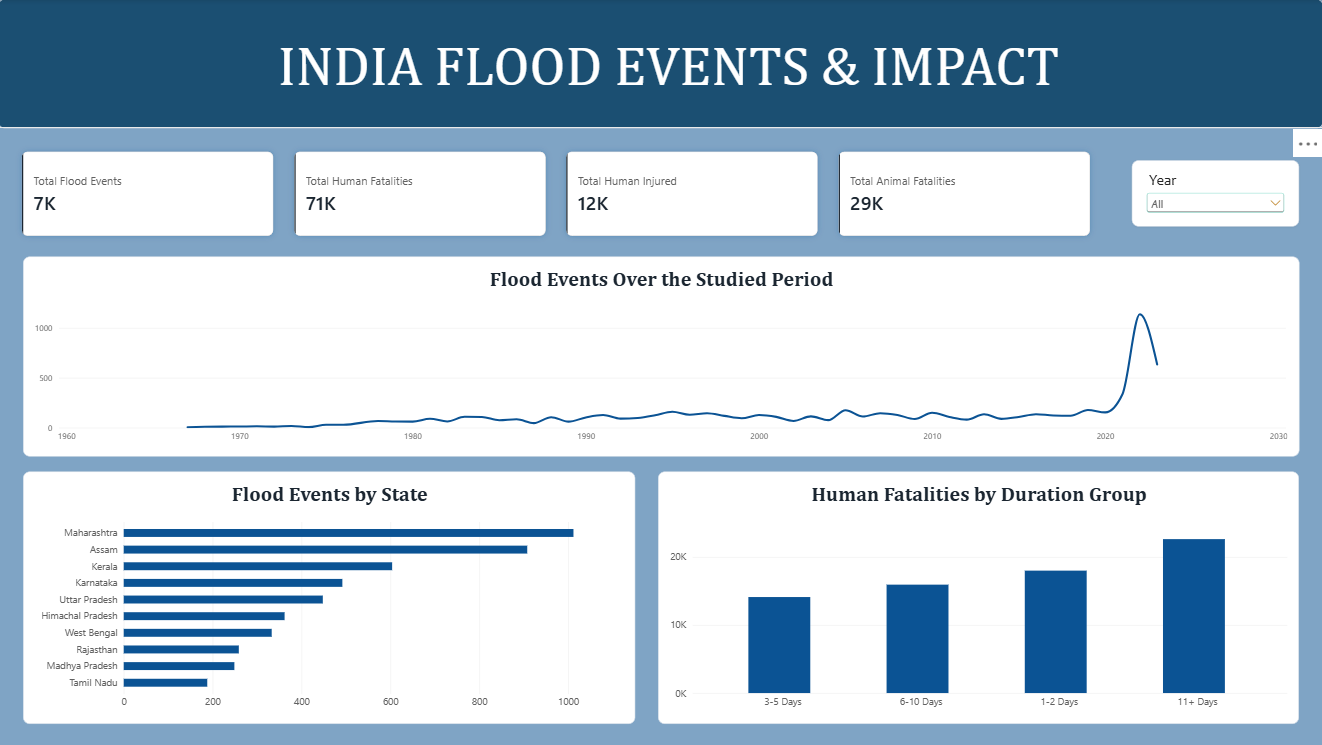

Layout of this report page (visuals, bound fields, positions):
{"tool":"powerbi","page":{"name":"Overview","canvas":[1920,1080],"ordinal":0},"visuals":[{"type":"cardVisual","fields":{"Data":["India_Flood_Inventory_v3.Total Flood Events","India_Flood_Inventory_v3.Total Human Fatalities","India_Flood_Inventory_v3.Total Human Injured","India_Flood_Inventory_v3.Total Animal Fatalities"]},"box":[23.5,209.9,1570.8,144.8],"z":0},{"type":"textbox","box":[0,0,1920.4,187.1],"z":1000},{"type":"lineChart","title":"Flood Events Over the Studied Period","fields":{"Category":["DateTable.Year"],"Y":["India_Flood_Inventory_v3.Total Flood Events"]},"box":[36.2,372.8,1847.7,289.5],"z":2000},{"type":"columnChart","title":" Human Fatalities by Duration Group","fields":{"Y":["India_Flood_Inventory_v3.Total Human Fatalities"],"Category":["India_Flood_Inventory_v3.Duration Group"]},"box":[955.5,684.1,928.4,365.6],"z":3000},{"type":"clusteredBarChart","title":" Flood Events by State","fields":{"Y":["India_Flood_Inventory_v3.Total Flood Events"],"Category":["India_Flood_Inventory_v3.State"]},"box":[36.2,684.1,886.7,365.6],"z":4000},{"type":"slicer","fields":{"Values":["DateTable.Year"]},"box":[1641.4,233.4,242.5,95.9],"z":5000}]}

Visuals, with their boxes in screenshot pixels (x1, y1, x2, y2), scaled from the page's 1920x1080 canvas onto the 1322x745 screenshot:
cardVisual - India_Flood_Inventory_v3.Total Flood Events x India_Flood_Inventory_v3.Total Human Fatalities: 16,145,1098,245
textbox: 0,0,1321,129
"Flood Events Over the Studied Period" lineChart: 25,257,1297,457
" Human Fatalities by Duration Group" columnChart: 658,472,1297,724
" Flood Events by State" clusteredBarChart: 25,472,635,724
slicer - DateTable.Year: 1130,161,1297,227
